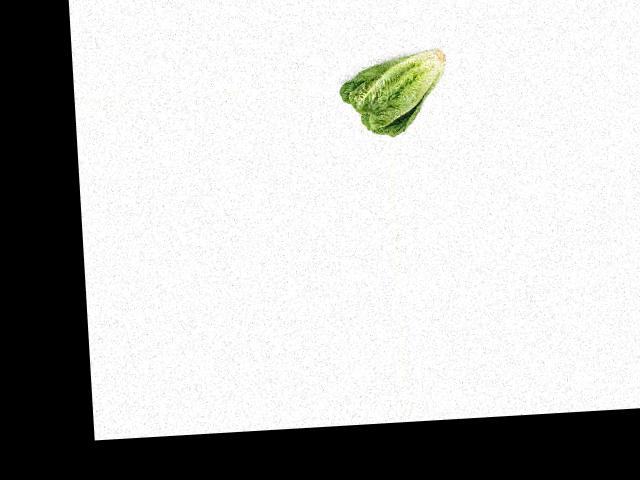lettuce: (338, 46, 452, 139)
